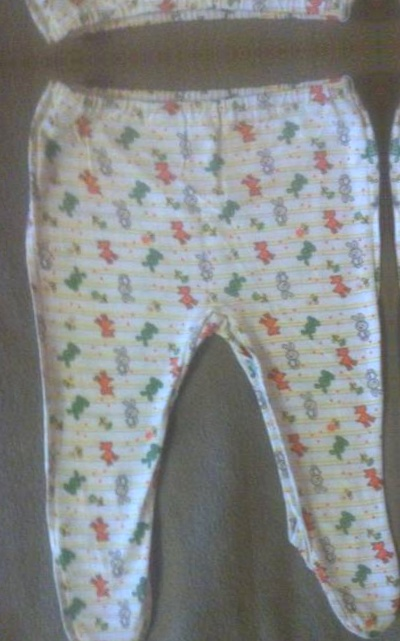Pants: (0, 70, 400, 641), (0, 0, 376, 41), (382, 52, 400, 641), (354, 0, 400, 23)
